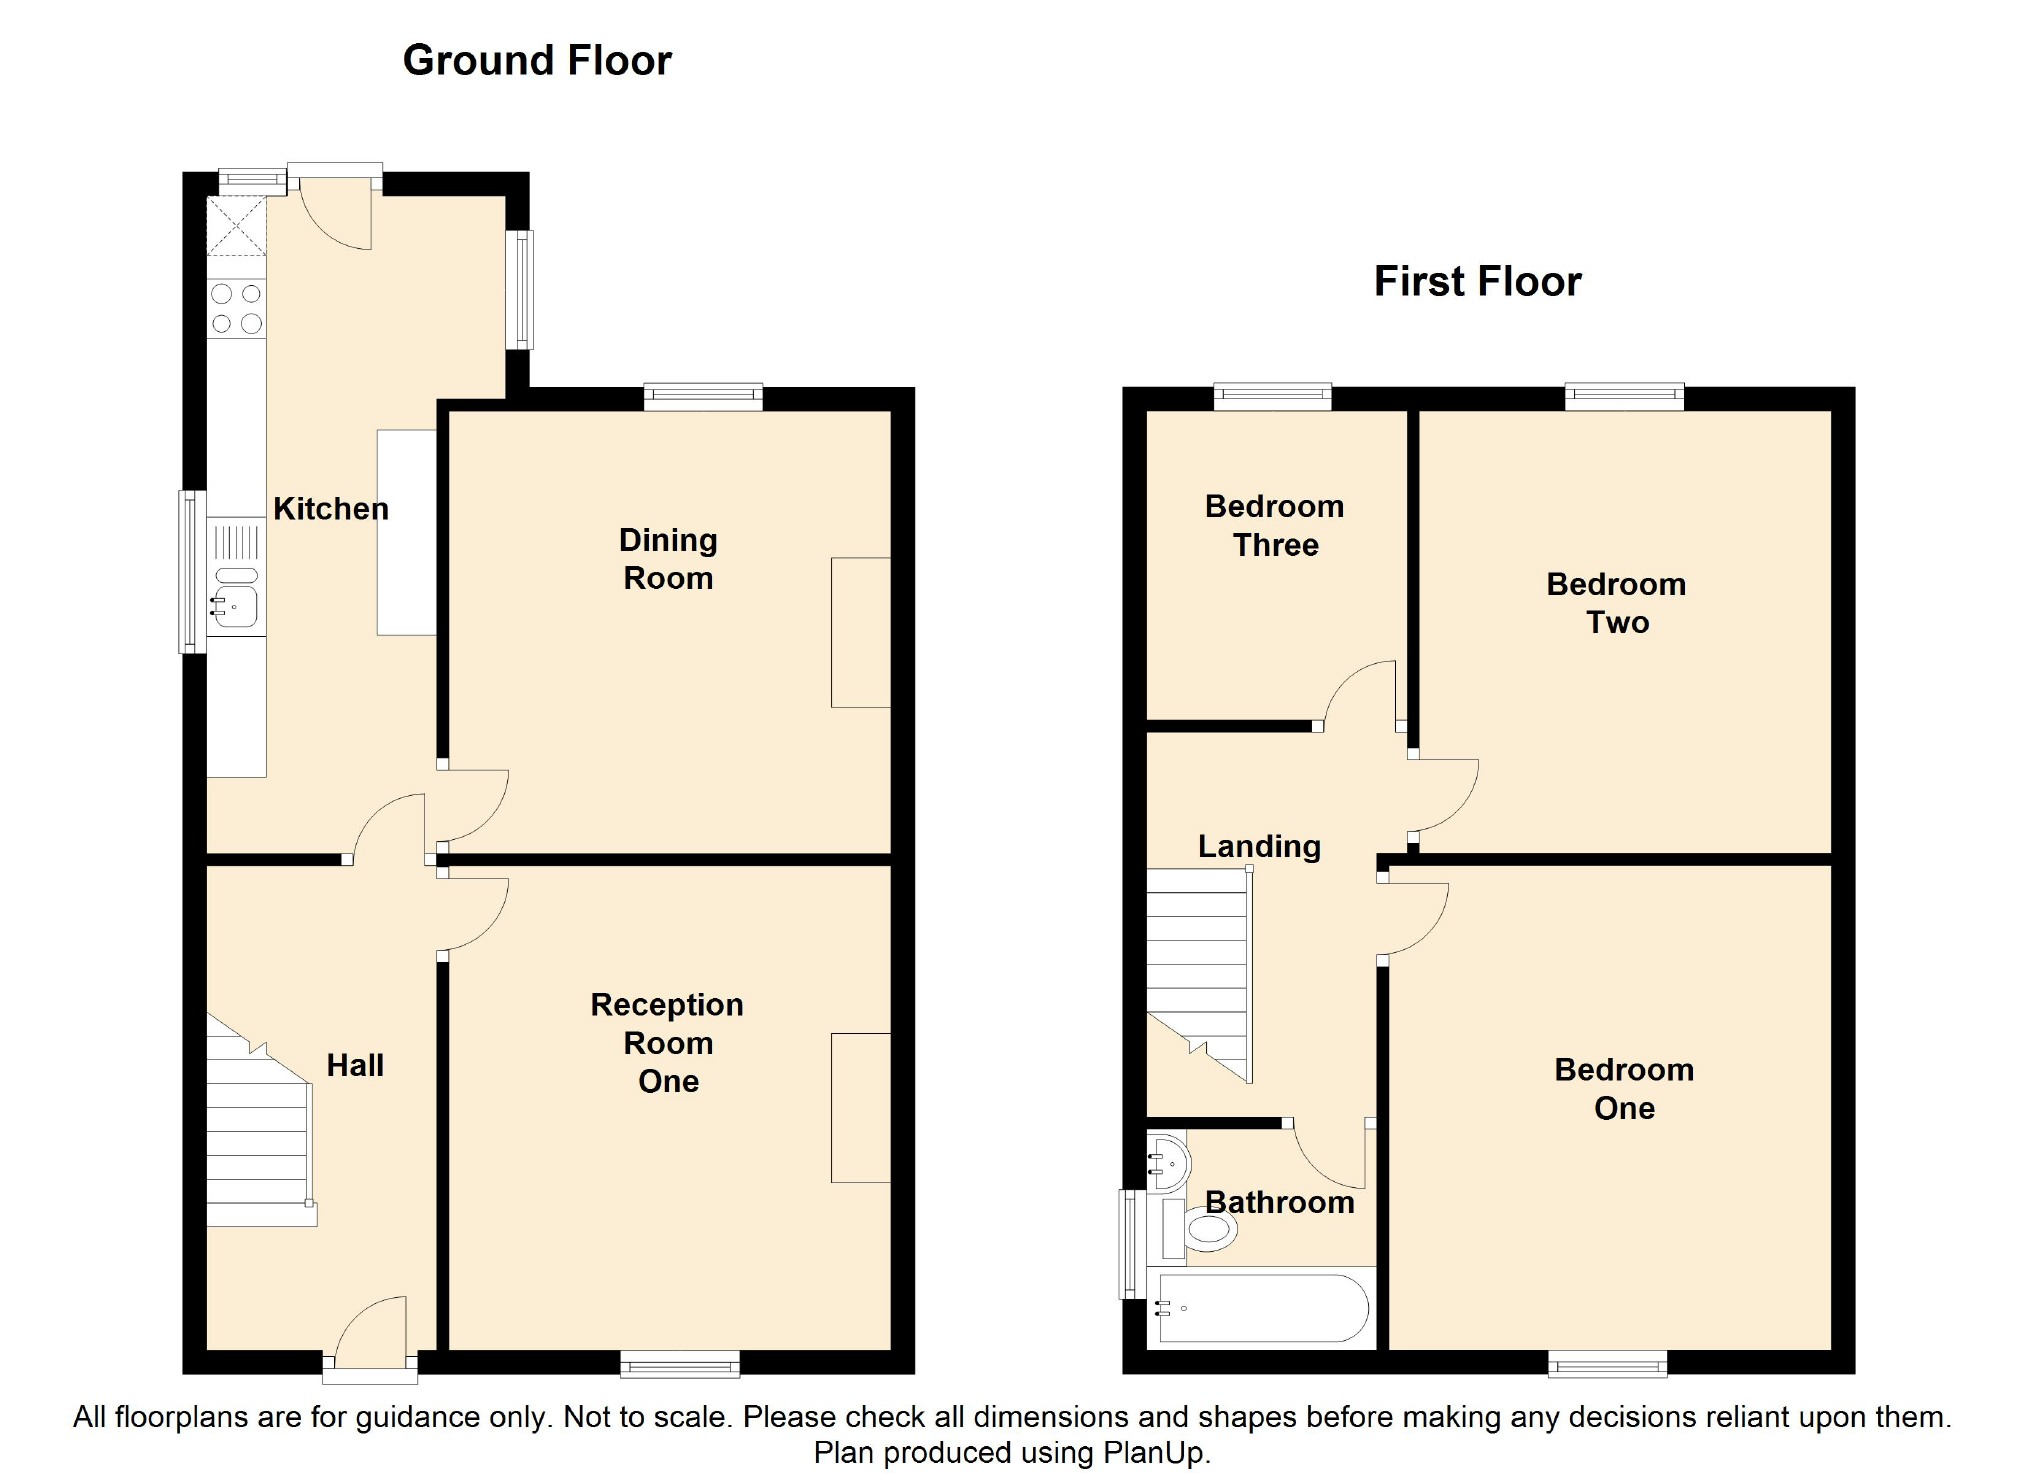window: (175, 486, 208, 657), (640, 377, 766, 417), (1545, 1343, 1670, 1382), (502, 226, 538, 352), (1211, 380, 1335, 415), (1563, 380, 1685, 415), (618, 1347, 744, 1380), (1116, 1185, 1149, 1303), (215, 163, 289, 200)
